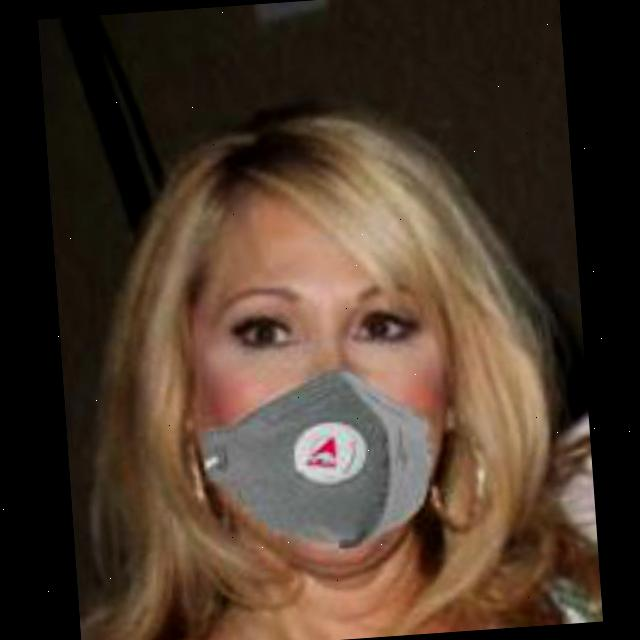suspicion: (148, 131, 478, 606)
